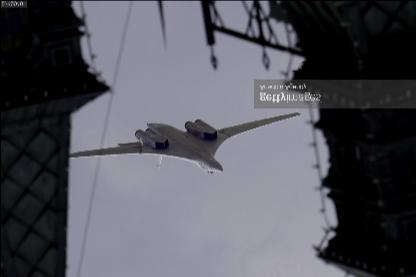Su34: (66, 112, 300, 174)
